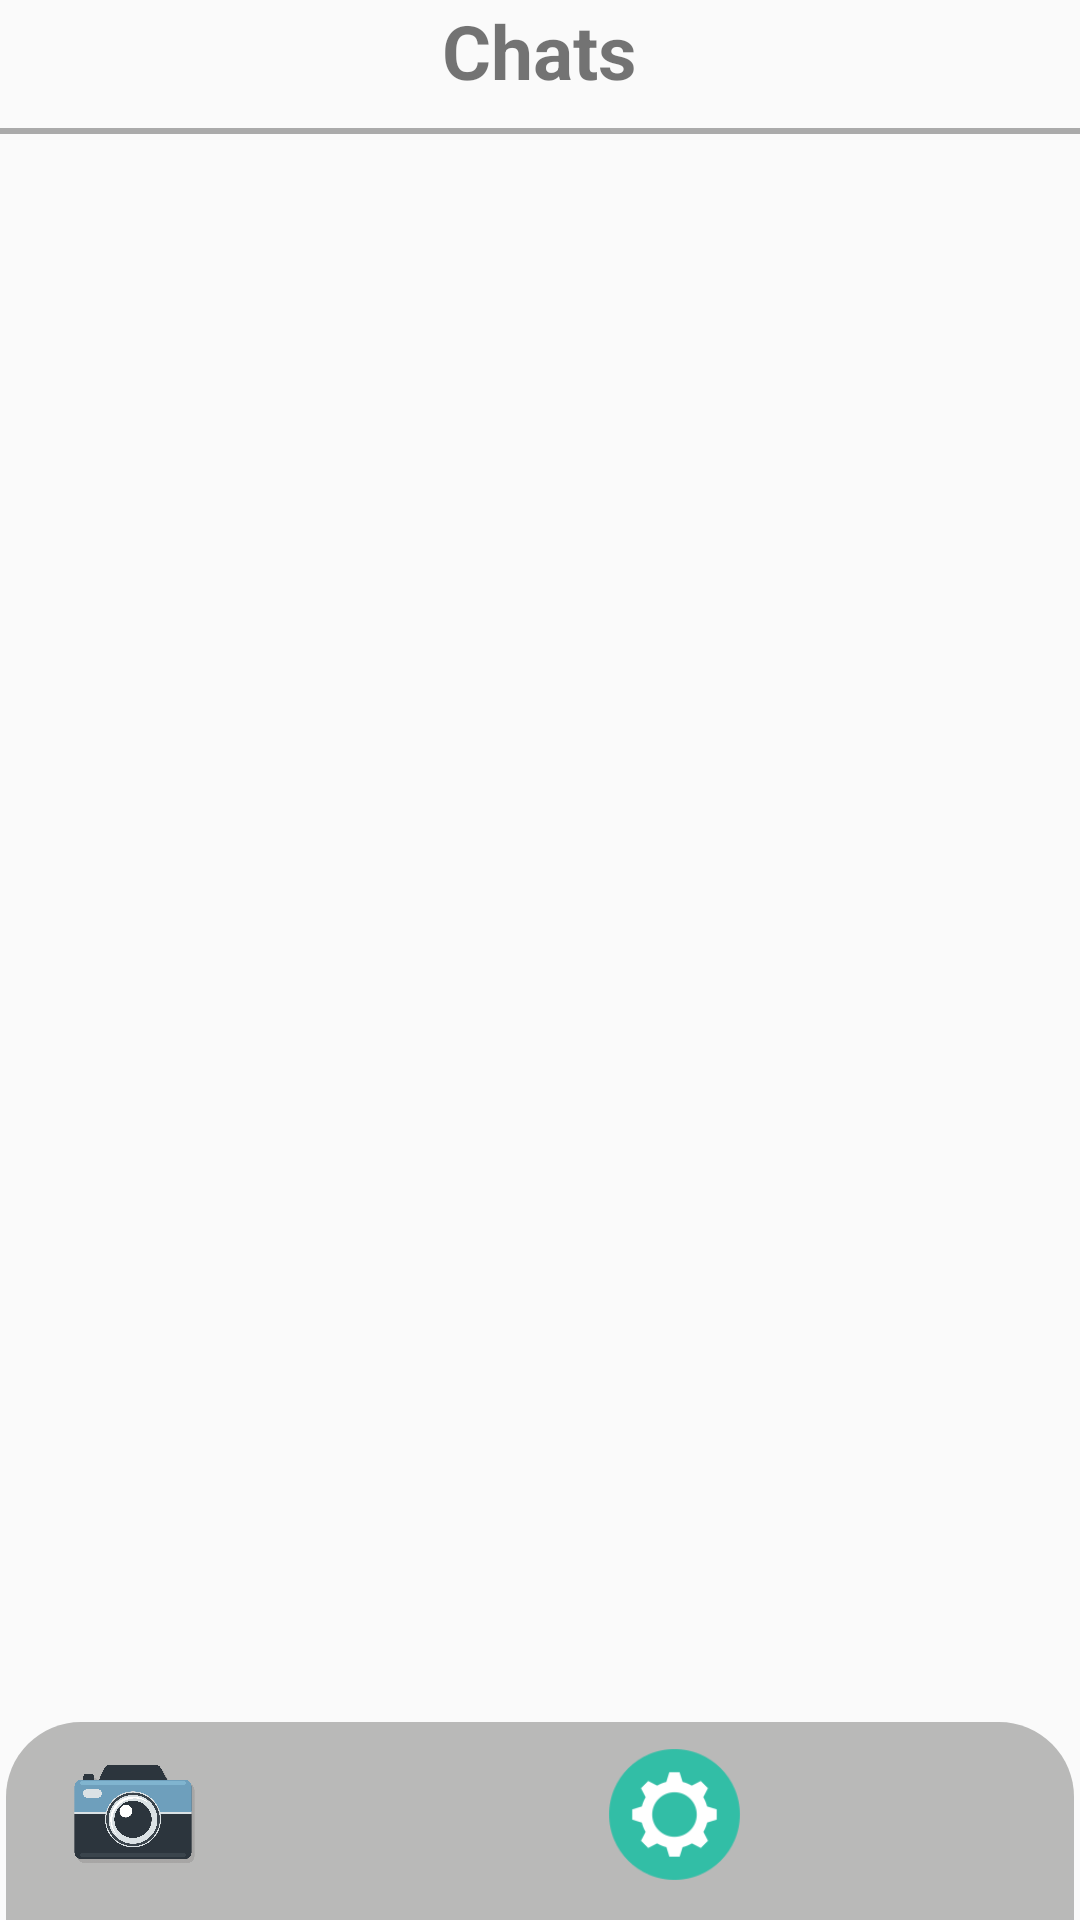

Icons on this 1080 × 1920 Android screen, each with its box as (x1, y1, x2, y2):
cam: (74, 1765, 192, 1859)
settings: (609, 1749, 740, 1880)
